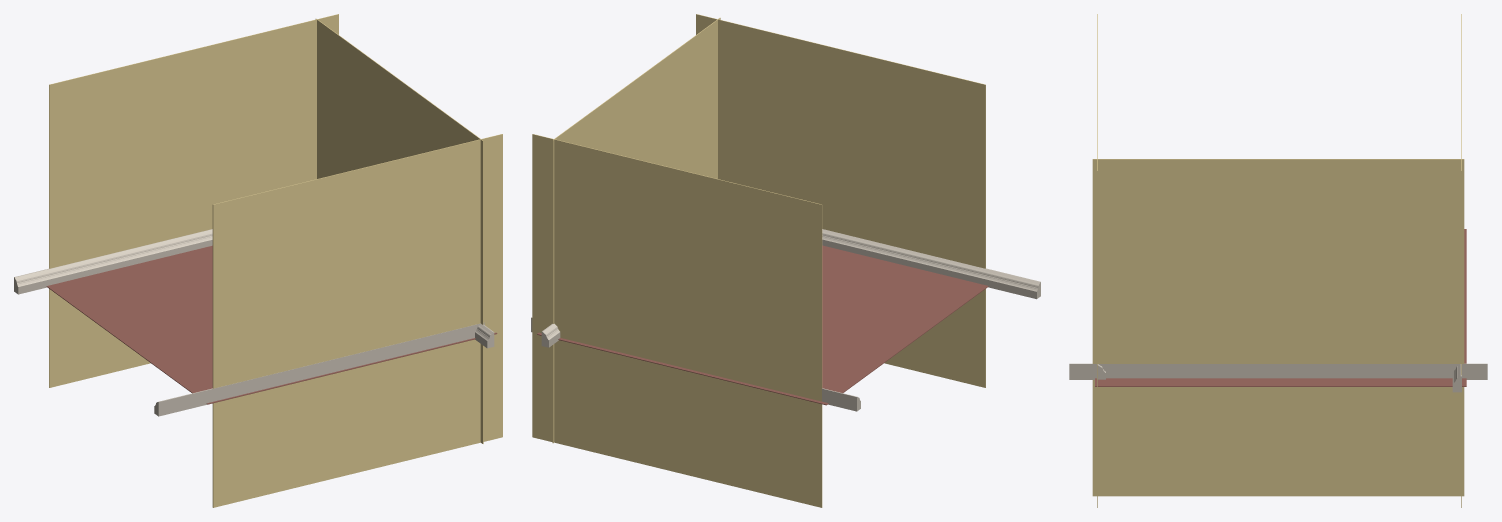
The model's file is room.fbx.
The picture shows the model from 3 angles, left to right: view 1: azimuth 30°, elevation 25°; view 2: azimuth 150°, elevation 25°; view 3: azimuth 270°, elevation 25°; orthographic projection. The views are drawn at different scales.
Visible parts, largest first — view 1: wallls, floor, skirting; view 2: wallls, floor, skirting; view 3: wallls, skirting, floor.
Boxes of the visible parts, x1,y1,x2,y2 form: wallls: (49,14,502,507); floor: (46,245,497,404); skirting: (14,229,494,416); wallls: (532,14,985,507); floor: (537,245,988,405); skirting: (531,229,1040,411); wallls: (1092,14,1464,507); skirting: (1069,363,1487,392); floor: (1095,229,1466,386).
Bounding box in the file's own units: 2388 × 2001 × 2252.
